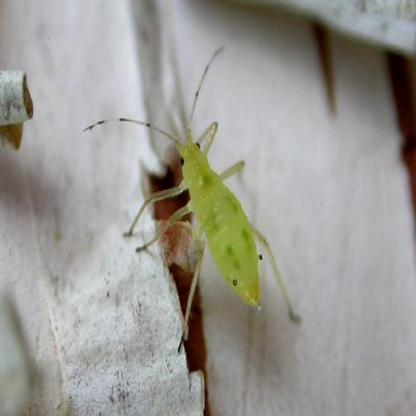aphid: (68, 42, 303, 334)
